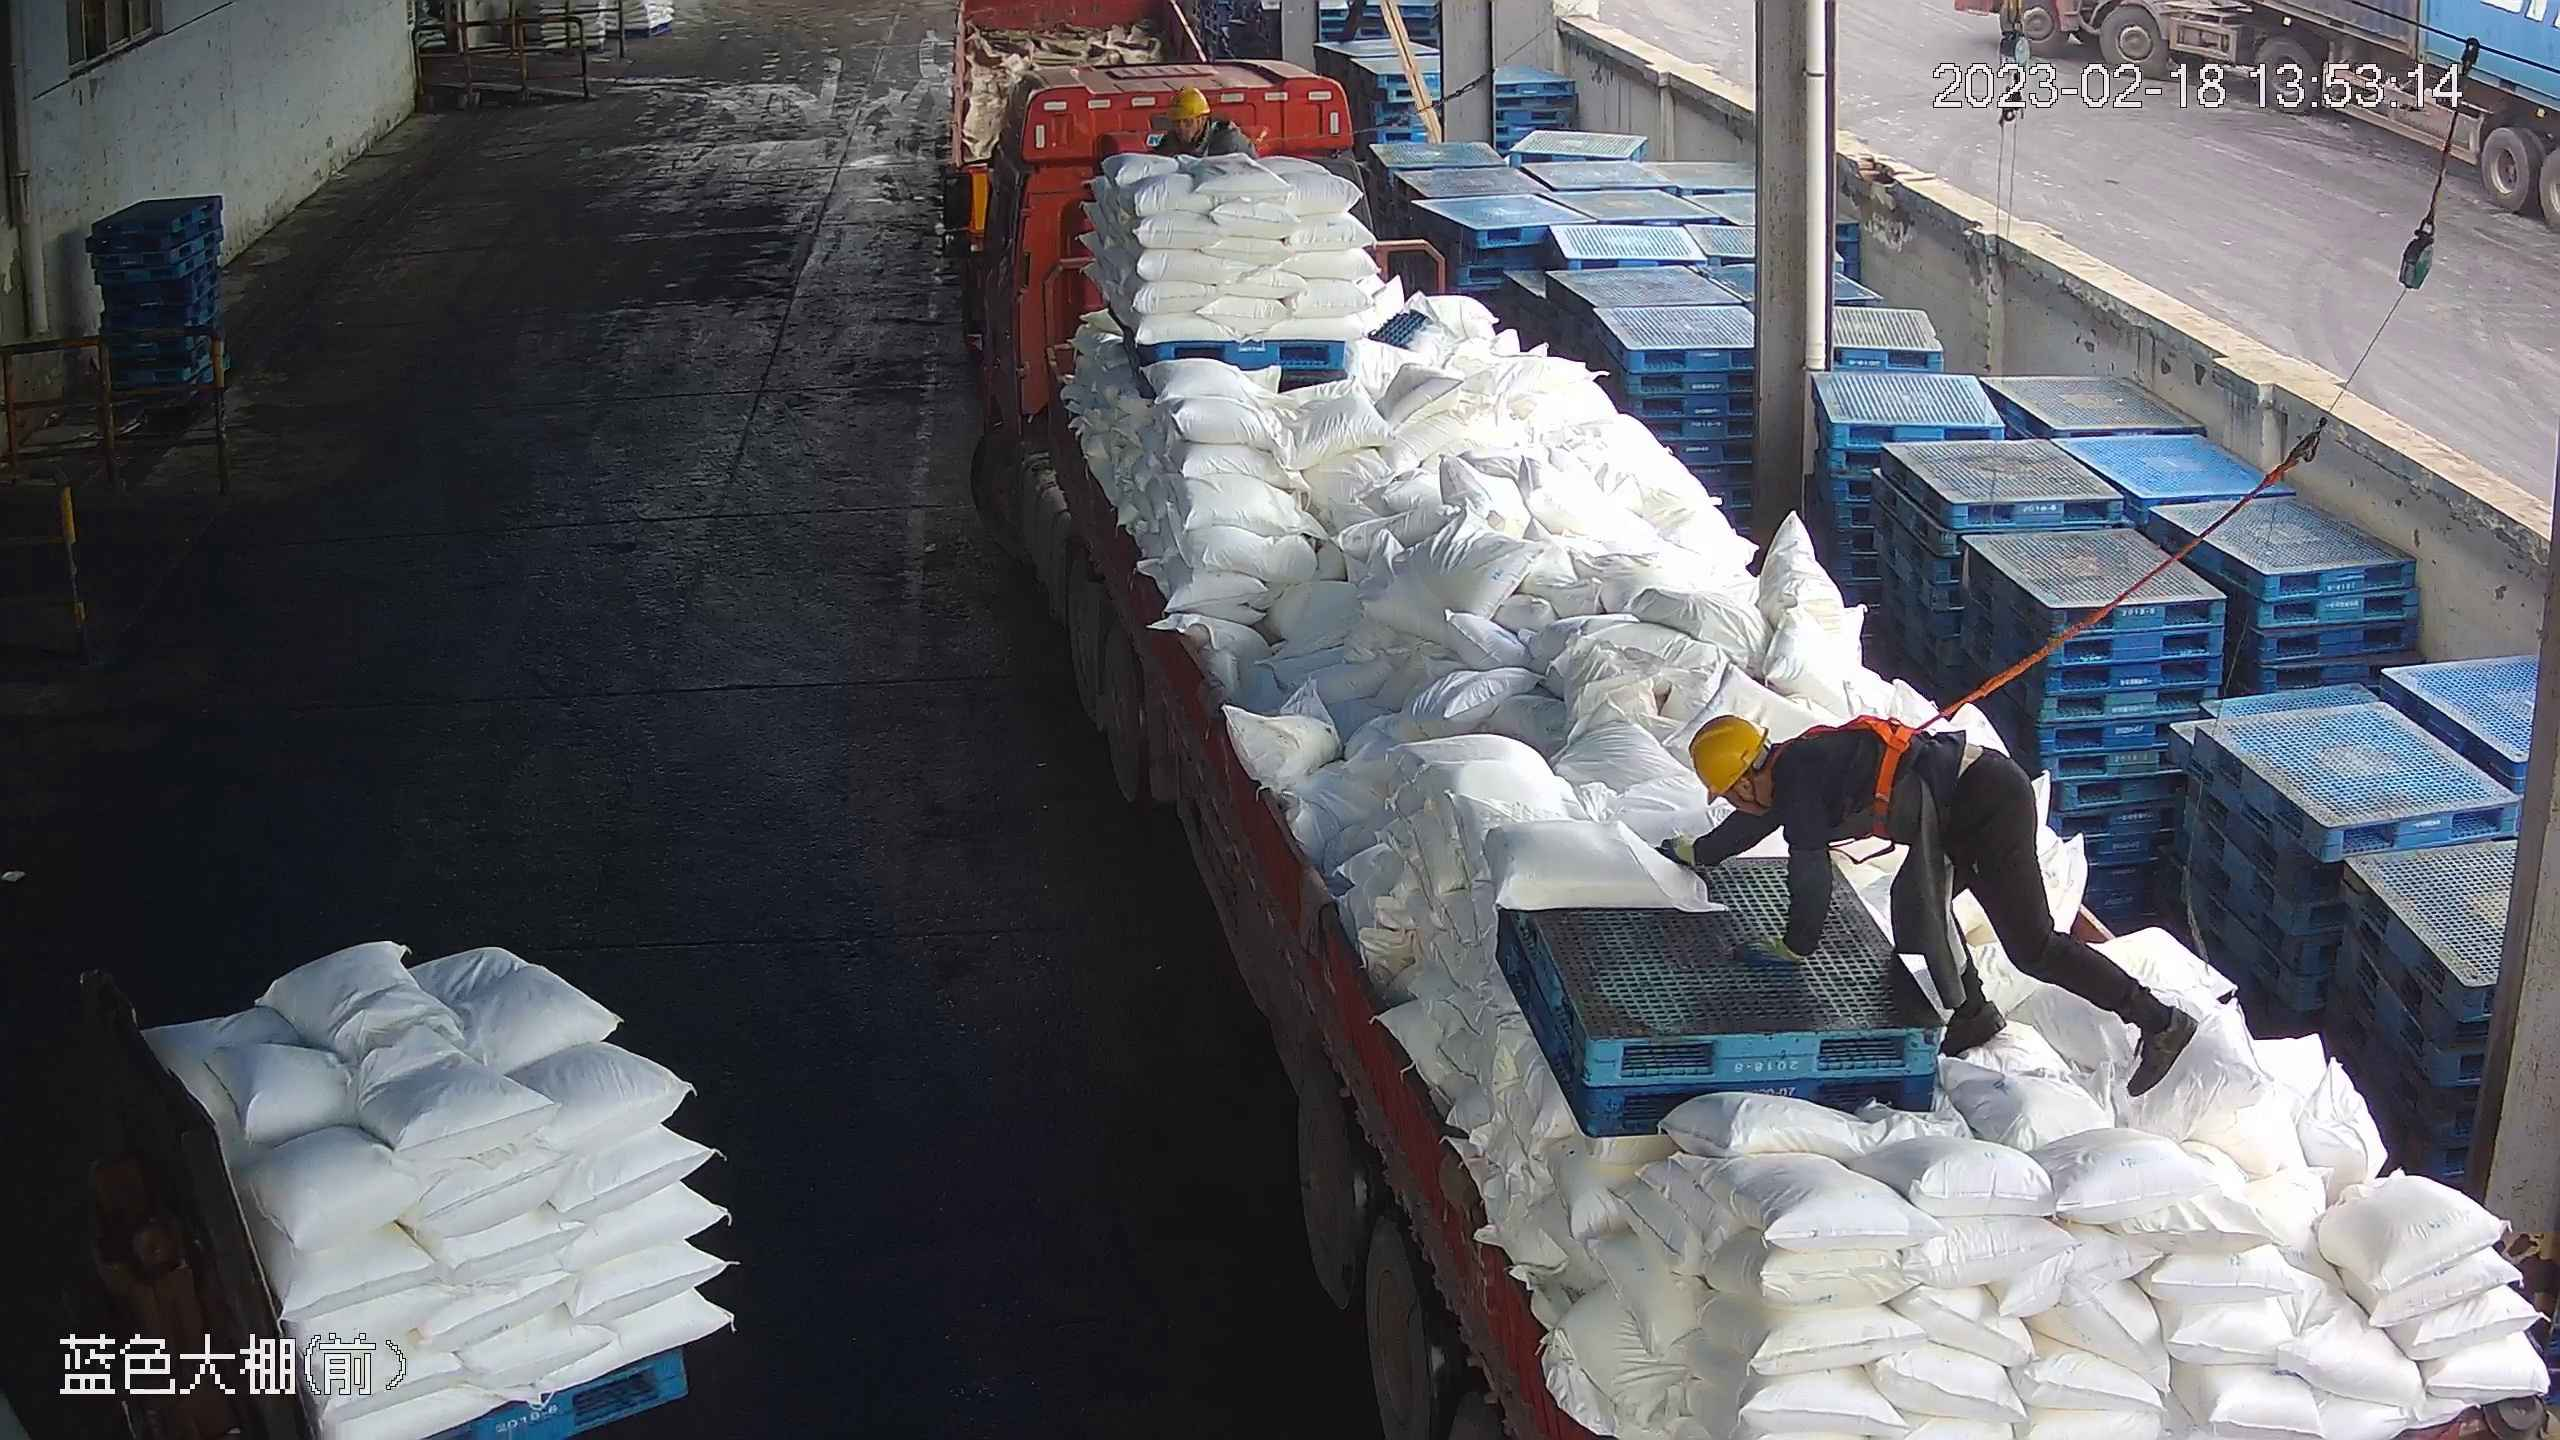belt: (1794, 697, 1960, 843), (1190, 121, 1285, 166)
head: (1688, 711, 1885, 871), (1161, 87, 1259, 155)
helmet: (1688, 710, 1771, 809), (1166, 87, 1209, 119)
people: (1660, 714, 2203, 1108)
truck: (947, 50, 2560, 1440)
